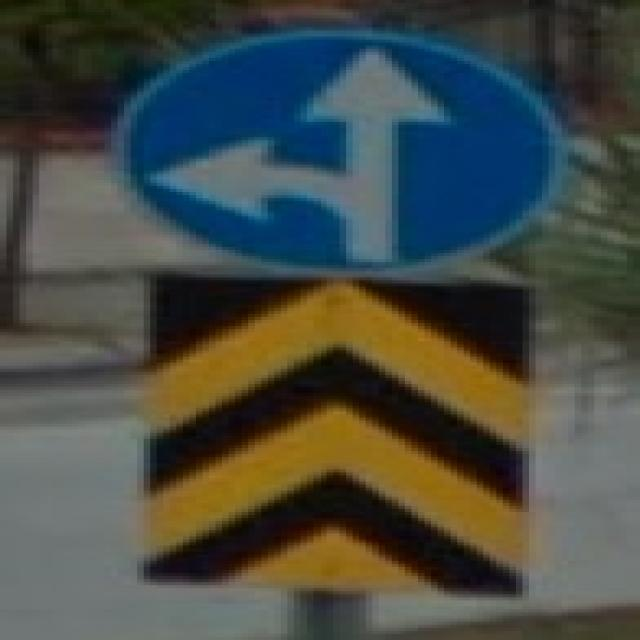Straight or Left: (116, 32, 573, 273)
